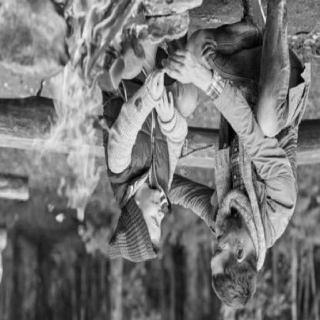Fire: (18, 1, 144, 247)
